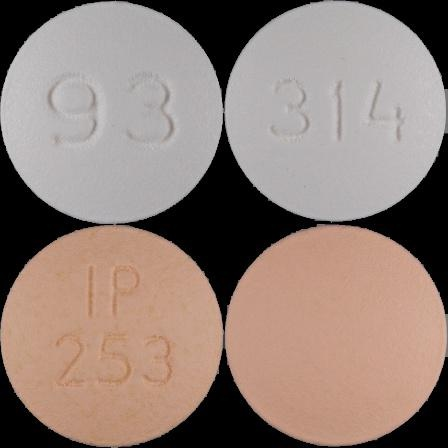50090-0601: (0, 0, 224, 224)
